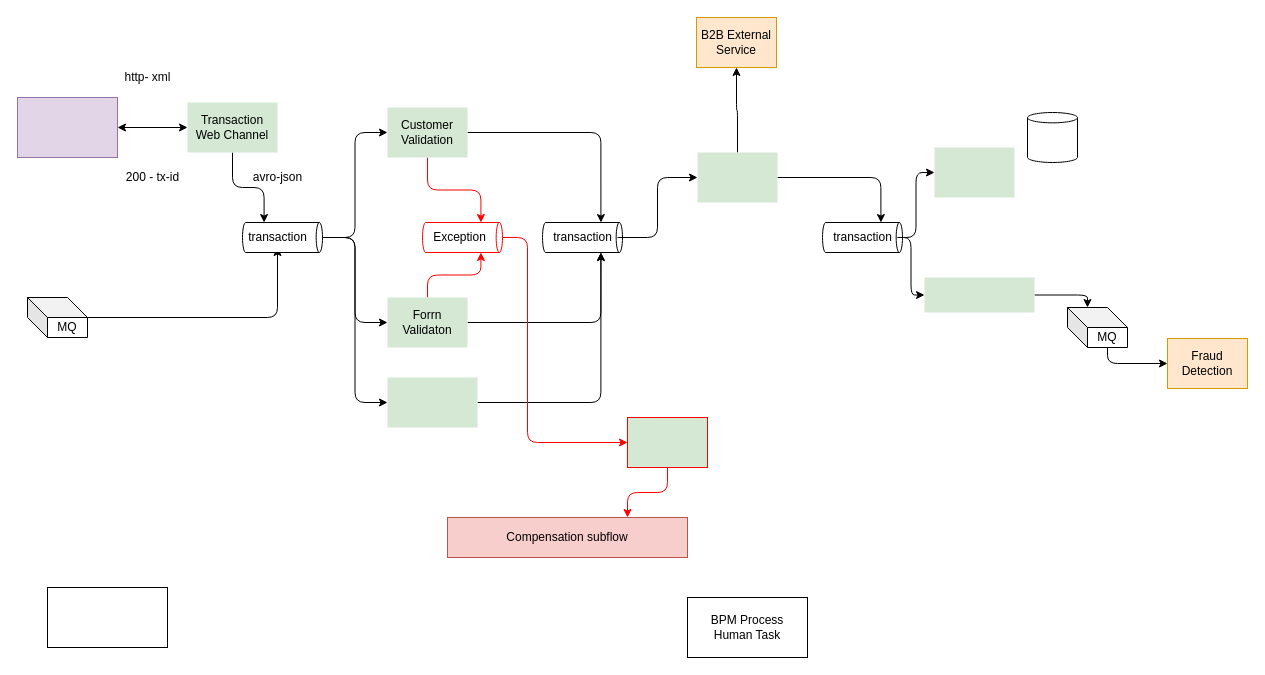
This 1265x675 diagram has some shape labels left out. The centre of each missing label's shape, as x and y in pixels:
Acknowledge: the point at 432,402
Business Exception Mgt: the point at 667,442
Compute: the point at 737,177
Fire and Forget: the point at 979,294
HTTP Load Balancer: the point at 67,127
Persist: the point at 974,172
